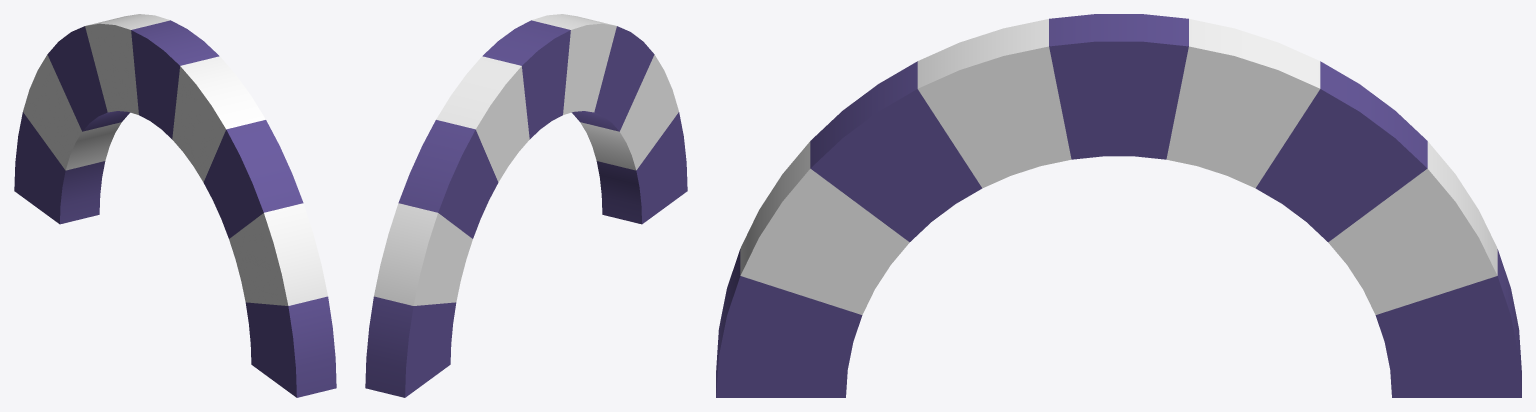
File: BannerStartEnd.obj
3 renders of one model, left to right at view 1: azimuth 30°, elevation 25°; view 2: azimuth 150°, elevation 25°; view 3: azimuth 270°, elevation 25°, orthographic. The views are drawn at different scales.
Parts seen in each view (by area): view 1: arc; view 2: arc; view 3: arc.
Part boxes in pixels (left/top/right/bottom): arc: left=14, top=14, right=336, bottom=397; arc: left=365, top=14, right=687, bottom=397; arc: left=716, top=14, right=1521, bottom=397.
Bounding box in the file's own units: 1.18 × 7.07 × 14.49.
1 material, 1 textured.
